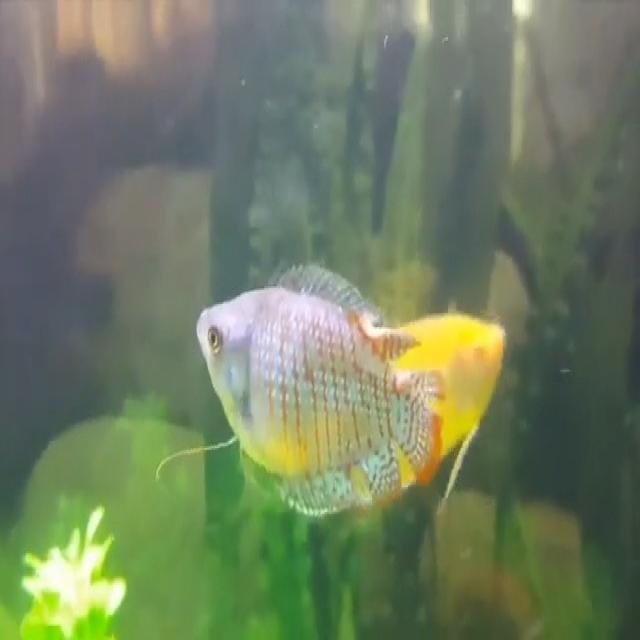fish: (198, 258, 448, 518), (401, 307, 507, 477)
